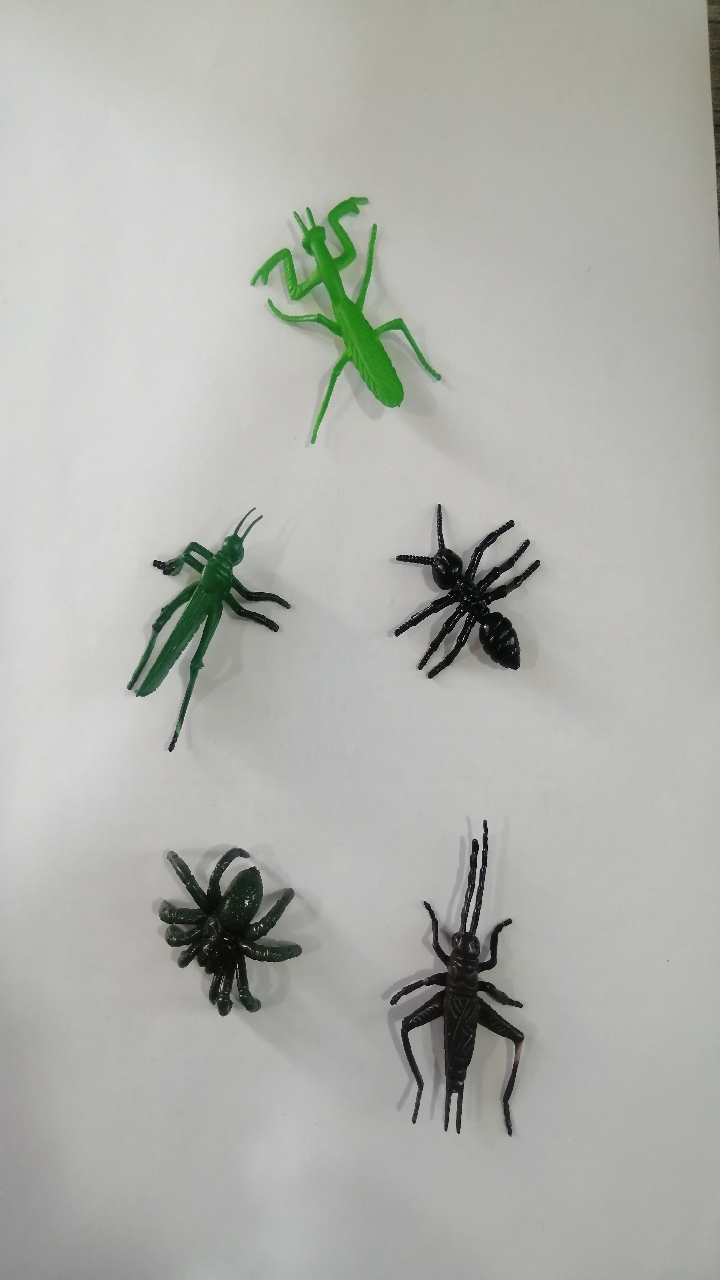intruso: (200, 159, 464, 465), (360, 785, 558, 1179), (103, 765, 354, 1071), (89, 480, 311, 763), (383, 471, 563, 712)
